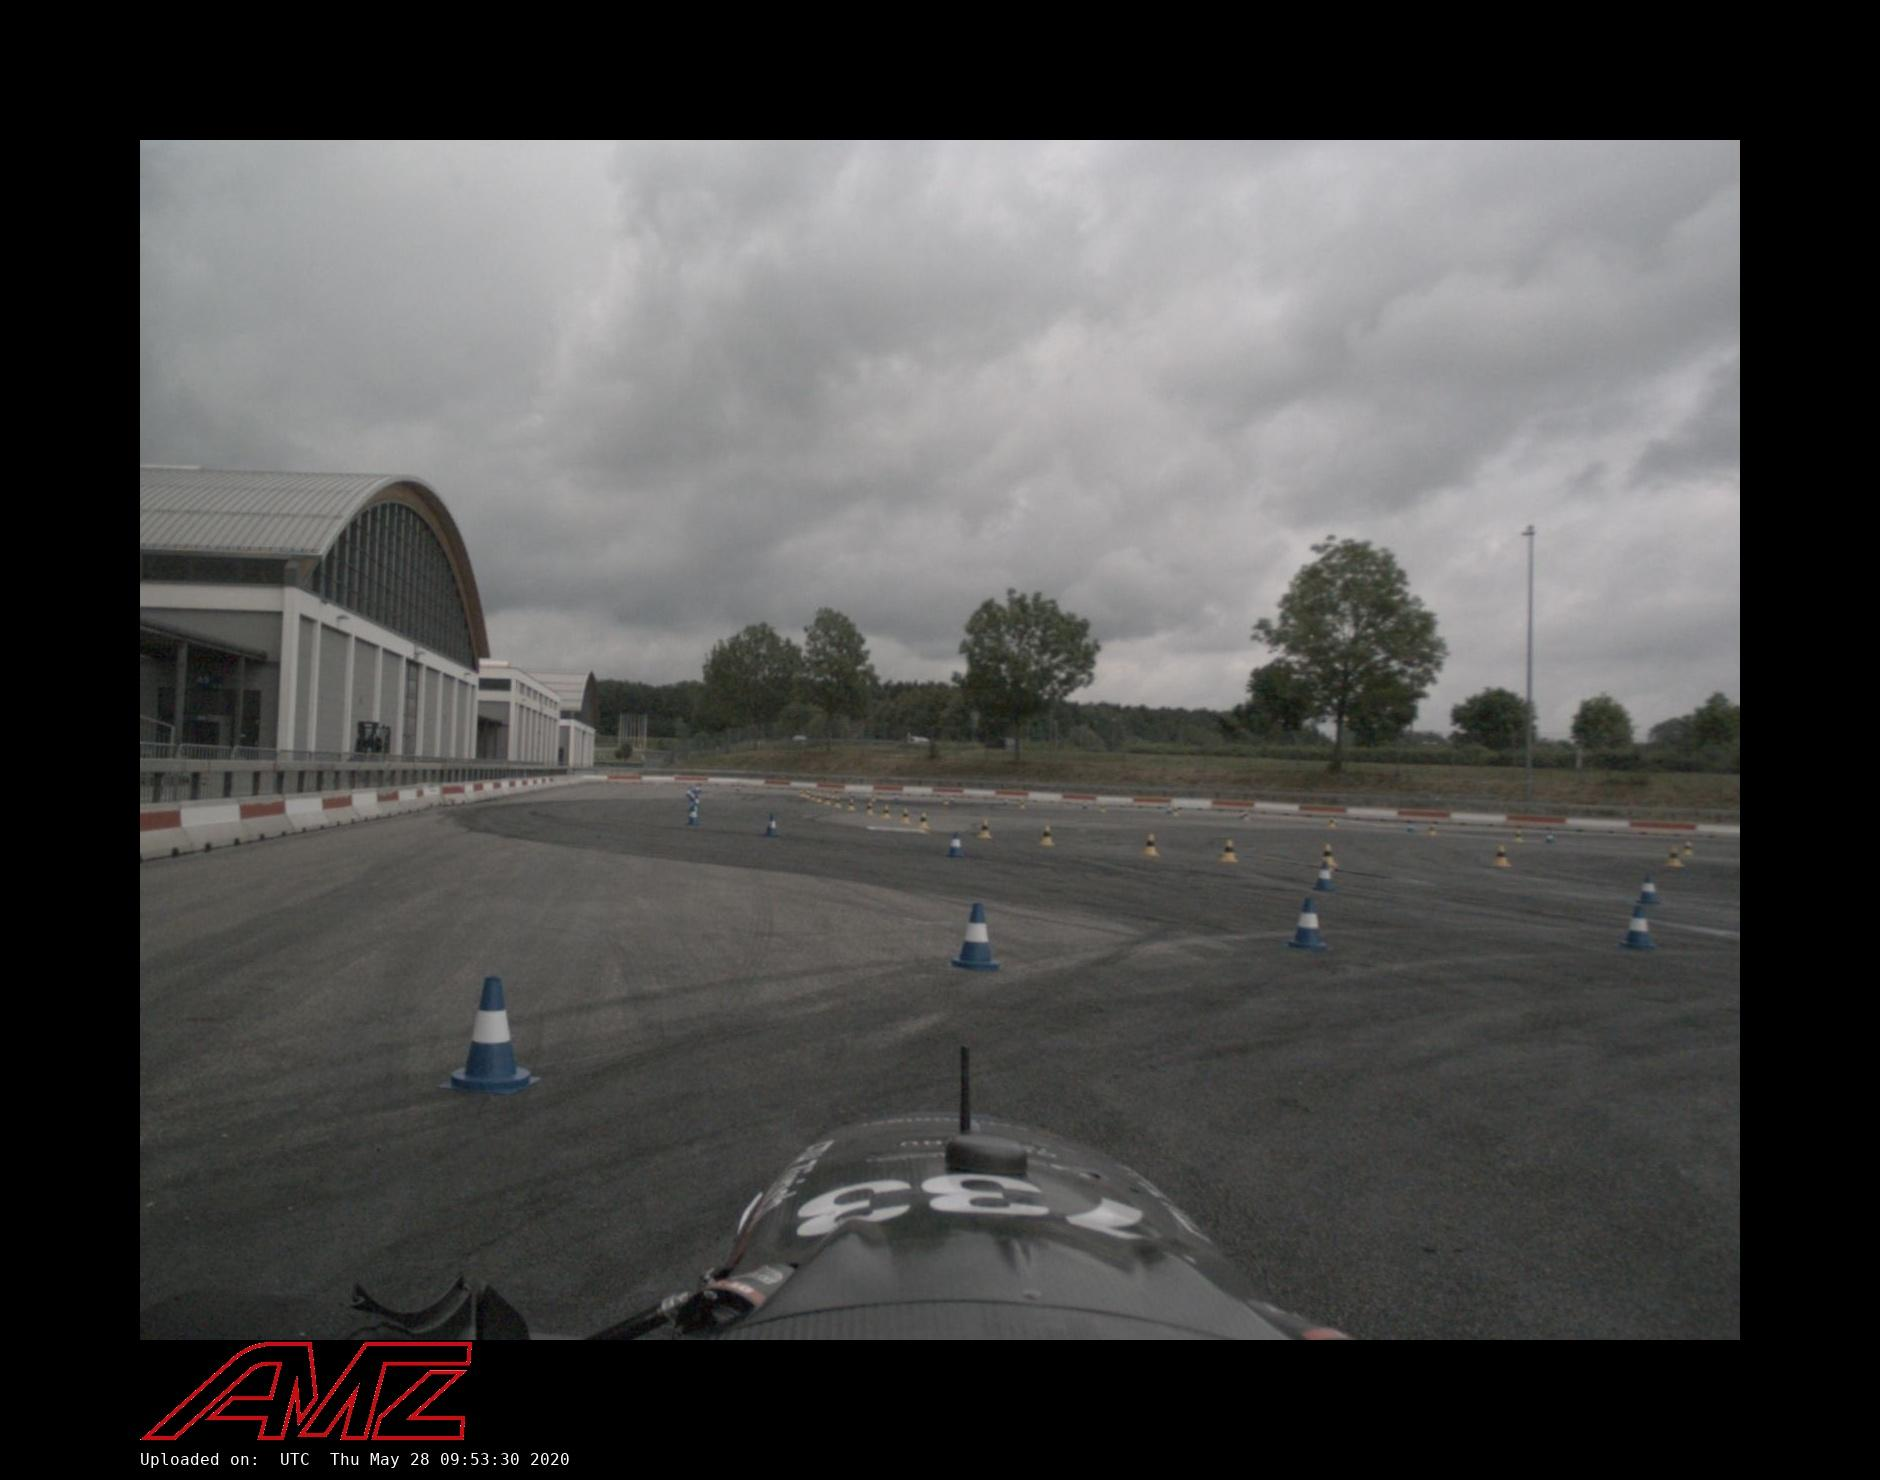blue_cone: (435, 976, 542, 1096), (948, 902, 1003, 972), (1286, 896, 1331, 951), (1618, 903, 1657, 951), (1636, 874, 1660, 905), (1312, 864, 1337, 891), (945, 828, 966, 857), (761, 813, 780, 839), (685, 803, 700, 828), (1544, 830, 1556, 844)
yellow_cone: (1219, 838, 1239, 864), (1318, 844, 1338, 870), (1141, 832, 1160, 857), (1492, 844, 1511, 867), (975, 818, 993, 841), (1665, 845, 1683, 868), (1041, 825, 1054, 845), (864, 801, 876, 819), (1512, 828, 1524, 845), (899, 809, 911, 825), (845, 796, 858, 813), (880, 804, 893, 819), (1683, 841, 1694, 857), (919, 812, 928, 828)
